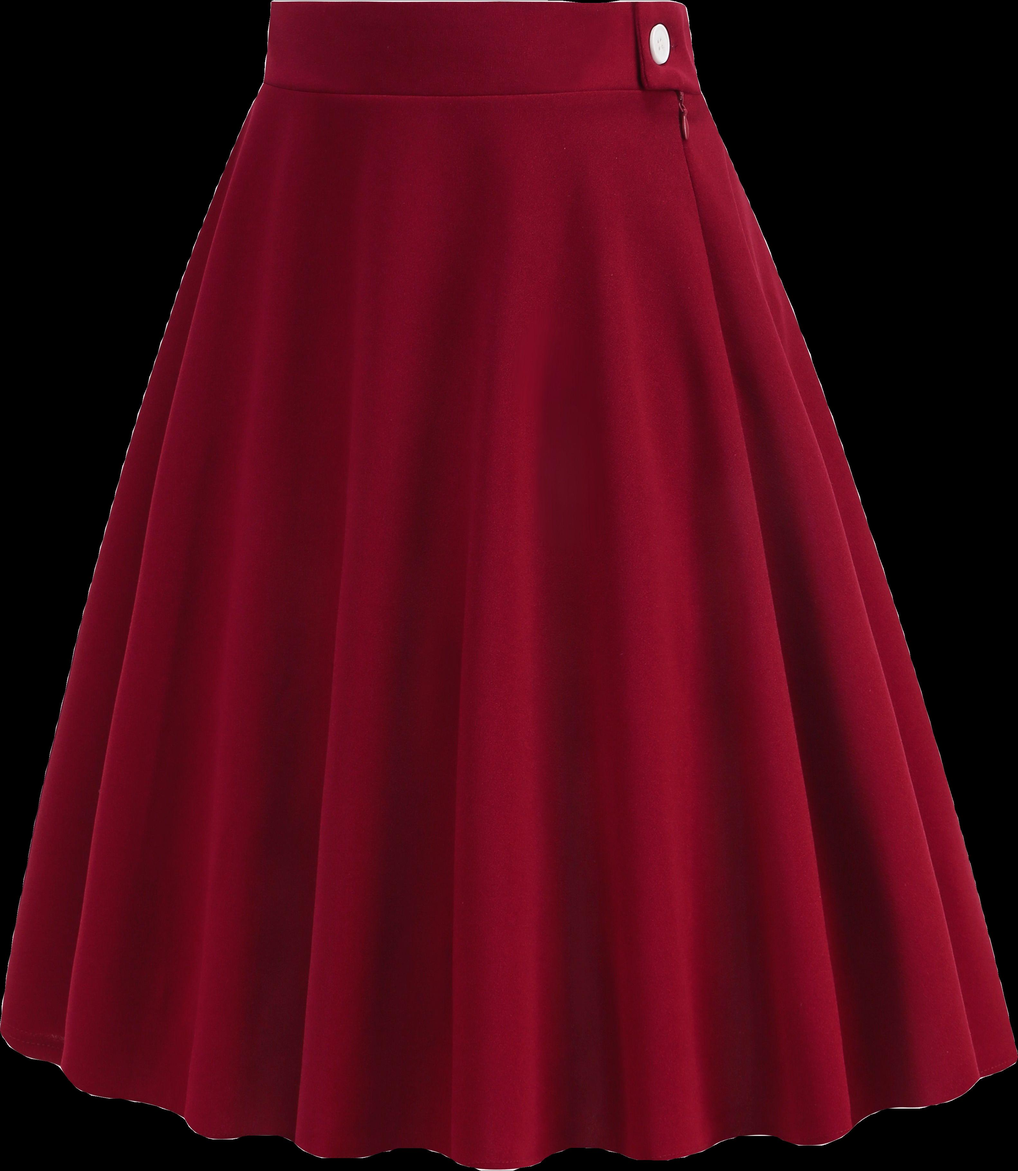Hemline: (0, 1024, 1018, 1171)
Waistline: (258, 75, 703, 107), (267, 0, 691, 14)
